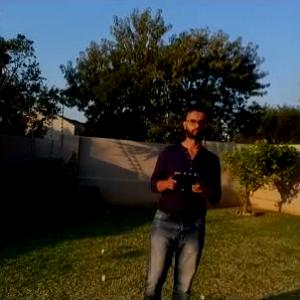follow: (136, 101, 222, 299)
